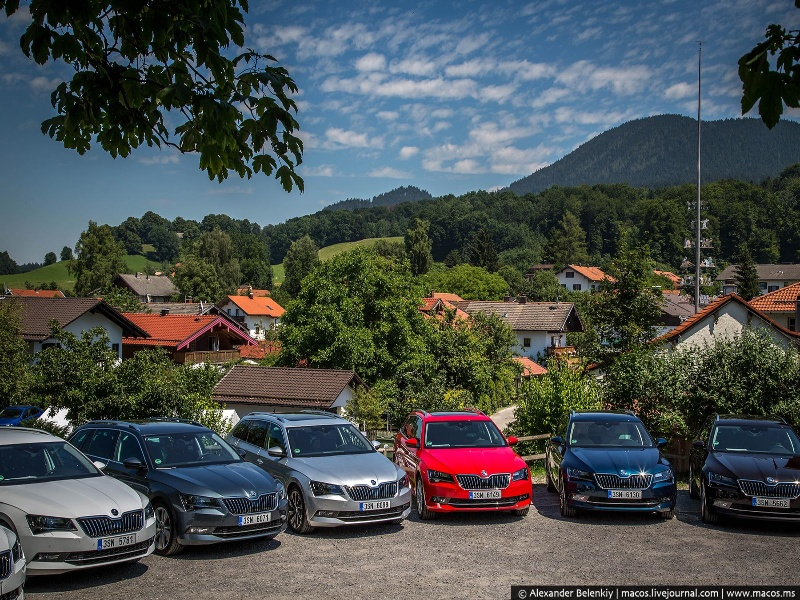car: (66, 417, 289, 557), (225, 410, 411, 534), (1, 428, 156, 576), (393, 408, 532, 519), (545, 409, 677, 520), (689, 411, 800, 524), (1, 525, 27, 599), (1, 405, 45, 426)
plate: (98, 534, 136, 549), (239, 513, 270, 526), (753, 498, 789, 508), (360, 500, 390, 510), (609, 490, 641, 498), (469, 491, 501, 498)
